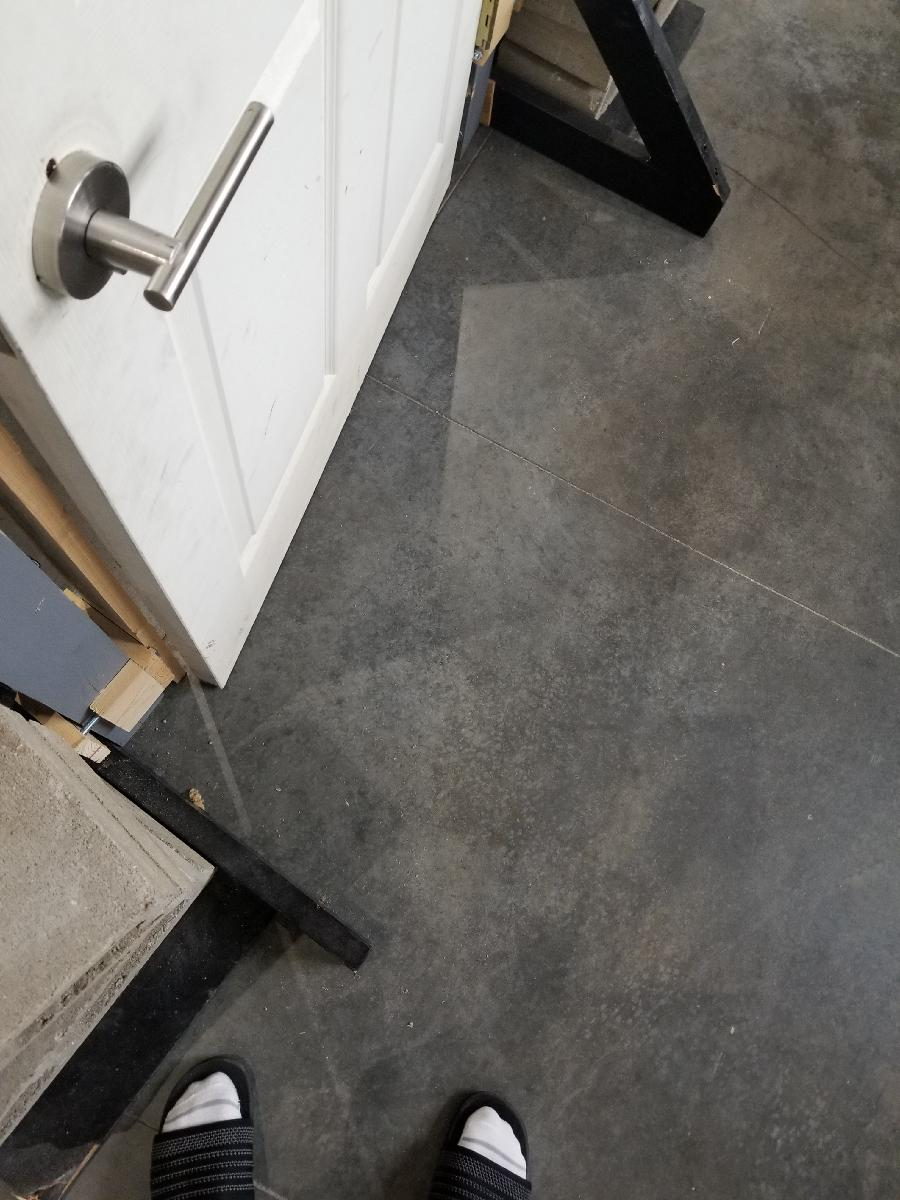doorHandle: (25, 93, 280, 333)
